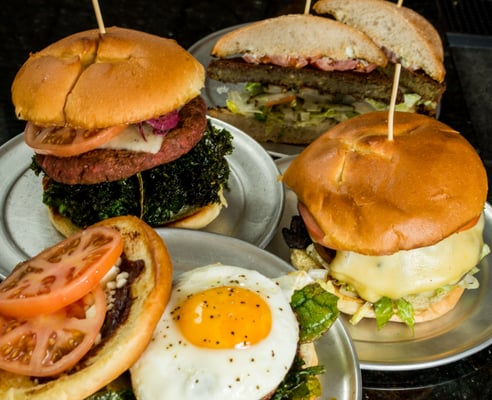soup: (11, 25, 233, 234), (281, 109, 489, 331), (0, 217, 174, 397), (310, 1, 448, 118)
